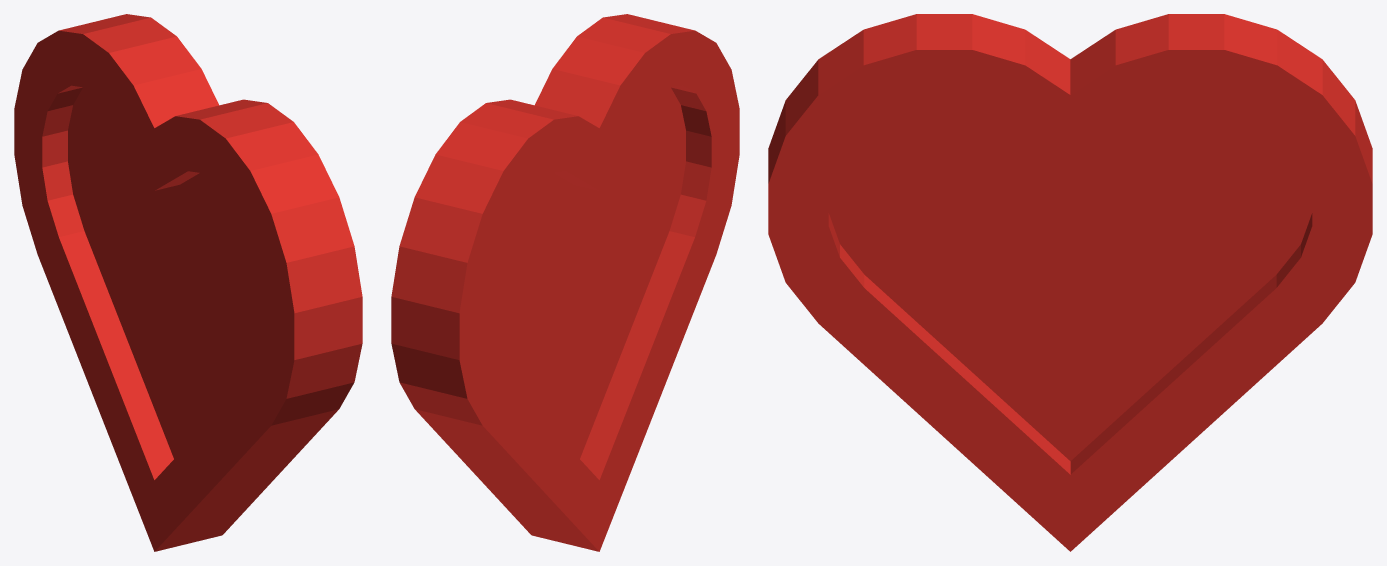
The picture shows the model from 3 angles, left to right: view 1: azimuth 30°, elevation 25°; view 2: azimuth 150°, elevation 25°; view 3: azimuth 270°, elevation 25°; orthographic projection. The views are drawn at different scales.
Parts seen in each view (by area): view 1: Cube; view 2: Cube; view 3: Cube.
Part boxes in pixels (<box>): Cube: <box>14,14,362,551</box>; Cube: <box>391,14,739,551</box>; Cube: <box>768,14,1372,551</box>.
Size of the model in its own units: 29.5 by 193 by 210.
